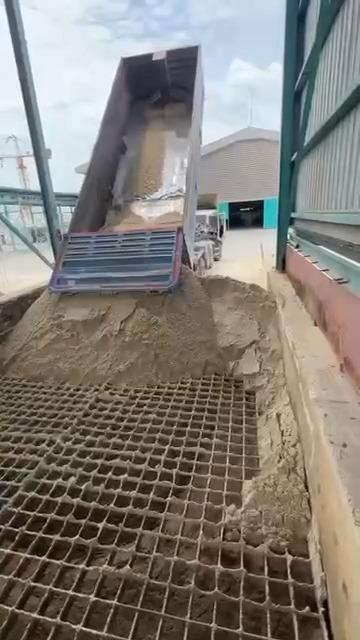sand: (4, 269, 309, 552), (203, 277, 309, 552), (3, 268, 225, 384), (131, 117, 165, 196), (103, 204, 181, 231)
